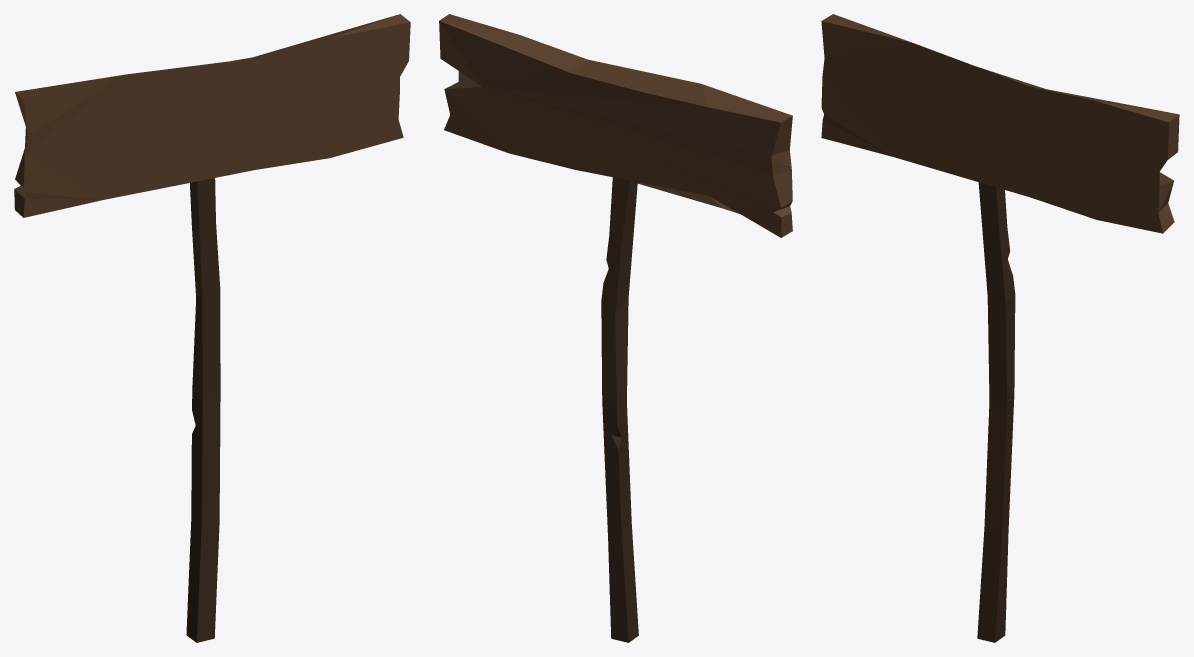
Rendered from tabled.fbx.
The picture shows the model from 3 angles, left to right: view 1: azimuth 30°, elevation 25°; view 2: azimuth 150°, elevation 25°; view 3: azimuth 330°, elevation 25°; orthographic projection. The views are drawn at different scales.
Parts seen in each view (by area): view 1: Cube.008; view 2: Cube.008; view 3: Cube.008.
Boxes of the visible parts, x1,y1,x2,y2 form: Cube.008: (14,14,410,642); Cube.008: (439,14,792,642); Cube.008: (821,14,1179,642).
Bounding box in the file's own units: 327 × 492 × 43.3.
